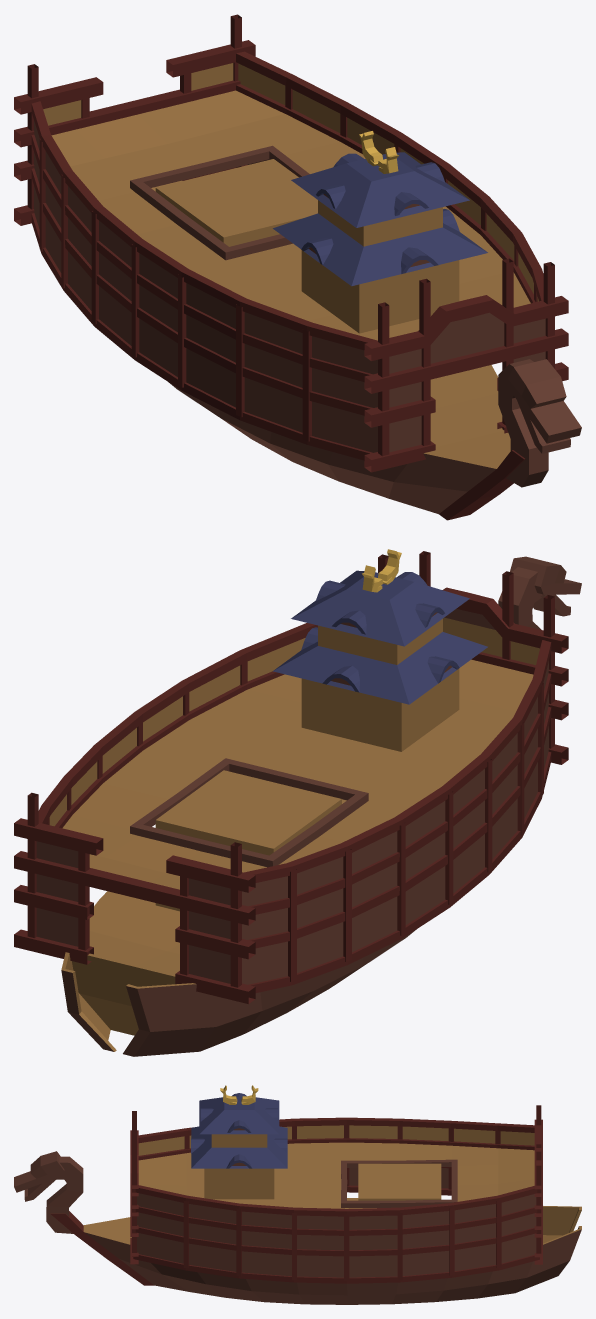
File: atake.glb
3 renders of one model, top to bottom at view 1: azimuth 30°, elevation 25°; view 2: azimuth 150°, elevation 25°; view 3: azimuth 270°, elevation 25°, orthographic. The views are drawn at different scales.
Parts seen in each view (by area): view 1: atake_hull.016, atake_hull.014, Cube.036, atake_hull.001, atake_hull.015, atake_rail_upper.002, Cube.039, atake_hull.013, Cube.040, atake_hull.018, atake_rail_lower.004, atake_hull.017 (+10 smaller); view 2: atake_hull.016, atake_hull.014, Cube.036, atake_hull.001, atake_hull.015, atake_rail_upper.002, Cube.039, atake_hull.017, atake_hull.003, atake_hull.013, atake_rail_lower.004, atake_hull.018 (+11 smaller); view 3: atake_hull.014, atake_hull.016, atake_hull.001, Cube.036, atake_rail_upper.002, atake_hull.015, atake_rail_lower.004, atake_hull.017, Cube.039, Cube.040, atake_rail_lower.003, atake_rail_lower.001 (+6 smaller).
Part boxes in pixels (left/top/right/bottom): atake_hull.016: left=51, top=90, right=530, bottom=340; atake_hull.014: left=34, top=121, right=545, bottom=452; Cube.036: left=273, top=152, right=487, bottom=333; atake_hull.001: left=151, top=180, right=510, bottom=513; atake_hull.015: left=27, top=14, right=554, bottom=455; atake_rail_upper.002: left=31, top=51, right=543, bottom=350; Cube.039: left=155, top=159, right=317, bottom=246; atake_hull.013: left=14, top=40, right=568, bottom=361; Cube.040: left=498, top=359, right=581, bottom=487; atake_hull.018: left=14, top=80, right=568, bottom=393; atake_rail_lower.004: left=31, top=84, right=535, bottom=381; atake_hull.017: left=43, top=63, right=538, bottom=301; atake_hull.016: left=62, top=659, right=533, bottom=889; atake_hull.014: left=36, top=608, right=548, bottom=984; Cube.036: left=273, top=570, right=487, bottom=751; atake_hull.001: left=61, top=799, right=416, bottom=1056; atake_hull.015: left=27, top=551, right=554, bottom=987; atake_rail_upper.002: left=38, top=623, right=551, bottom=882; Cube.039: left=155, top=770, right=341, bottom=911; atake_hull.017: left=49, top=617, right=539, bottom=826; atake_hull.003: left=130, top=758, right=368, bottom=867; atake_hull.013: left=14, top=587, right=568, bottom=892; atake_rail_lower.004: left=55, top=671, right=551, bottom=914; atake_hull.018: left=14, top=652, right=568, bottom=925; atake_hull.014: left=137, top=1168, right=536, bottom=1277; atake_hull.016: left=138, top=1142, right=534, bottom=1208; atake_hull.001: left=83, top=1198, right=581, bottom=1304; Cube.036: left=191, top=1097, right=287, bottom=1199; atake_rail_upper.002: left=135, top=1117, right=537, bottom=1216; atake_hull.015: left=132, top=1105, right=541, bottom=1281; atake_rail_lower.004: left=135, top=1138, right=537, bottom=1235; atake_hull.017: left=138, top=1125, right=534, bottom=1155; Cube.039: left=358, top=1163, right=441, bottom=1200; Cube.040: left=14, top=1151, right=83, bottom=1233; atake_rail_lower.003: left=133, top=1185, right=539, bottom=1283; atake_rail_lower.001: left=135, top=1167, right=537, bottom=1256.
Bounding box in the file's own units: 4.75 × 4.59 × 12.08.
